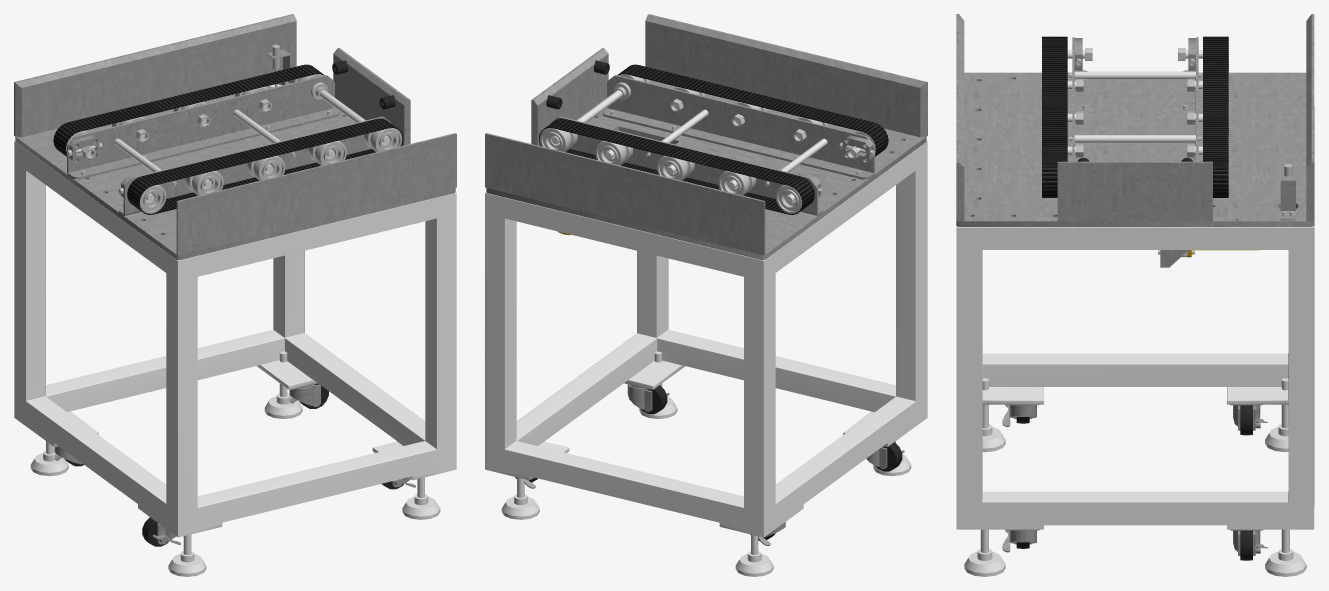
3 renders of one model, left to right at view 1: azimuth 30°, elevation 25°; view 2: azimuth 150°, elevation 25°; view 3: azimuth 270°, elevation 25°, orthographic. The views are drawn at different scales.
Visible parts, largest first — view 1: 02_frrame, 02_sus, 02_belt, 02_roler, 02_leg, 02_chrome, 02_bolt, 02_tire; view 2: 02_frrame, 02_sus, 02_belt, 02_roler, 02_leg, 02_chrome, 02_tire, 02_bolt; view 3: 02_sus, 02_frrame, 02_belt, 02_leg, 02_chrome, 02_bolt, 02_tire.
Part boxes in pixels (x1=…): 02_frrame: x1=14, y1=84, x2=456, y2=537; 02_sus: x1=14, y1=14, x2=456, y2=544; 02_belt: x1=53, y1=64, x2=403, y2=214; 02_roler: x1=66, y1=74, x2=402, y2=213; 02_leg: x1=30, y1=351, x2=440, y2=576; 02_chrome: x1=81, y1=90, x2=390, y2=201; 02_bolt: x1=66, y1=44, x2=331, y2=194; 02_tire: x1=64, y1=60, x2=403, y2=546; 02_frrame: x1=485, y1=141, x2=927, y2=537; 02_sus: x1=485, y1=14, x2=927, y2=545; 02_belt: x1=539, y1=64, x2=888, y2=214; 02_roler: x1=539, y1=74, x2=875, y2=213; 02_leg: x1=501, y1=351, x2=911, y2=576; 02_chrome: x1=551, y1=90, x2=860, y2=203; 02_tire: x1=515, y1=60, x2=902, y2=540; 02_bolt: x1=610, y1=82, x2=875, y2=194; 02_sus: x1=956, y1=14, x2=1314, y2=555; 02_frrame: x1=956, y1=106, x2=1314, y2=529; 02_belt: x1=1042, y1=36, x2=1228, y2=197; 02_leg: x1=964, y1=378, x2=1306, y2=576; 02_chrome: x1=1067, y1=50, x2=1202, y2=154; 02_bolt: x1=1069, y1=48, x2=1294, y2=254; 02_tire: x1=1016, y1=158, x2=1252, y2=560.
Bounding box in the file's own units: 0.6912 × 0.8897 × 0.6915.
7 materials, 2 textured.
